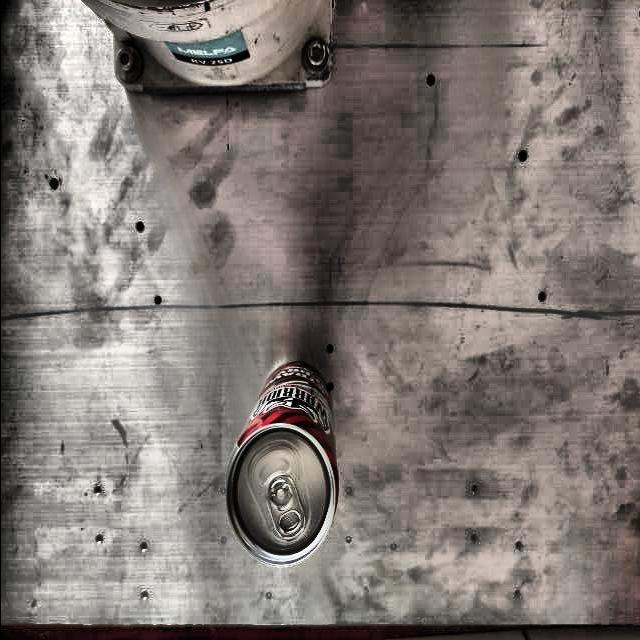Aluminum Can: (208, 358, 351, 569)
